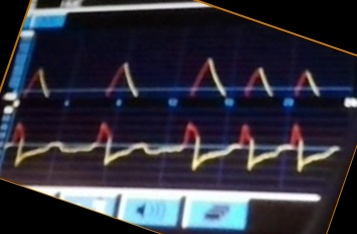Ineffective_effort Flow: (7, 119, 336, 180)
Ineffective_effort Volume: (24, 55, 321, 100)
